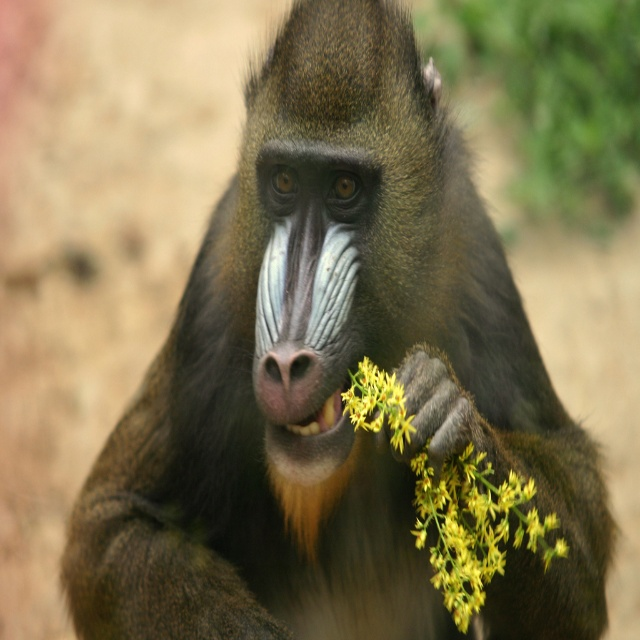Monkey: (58, 0, 626, 640)
